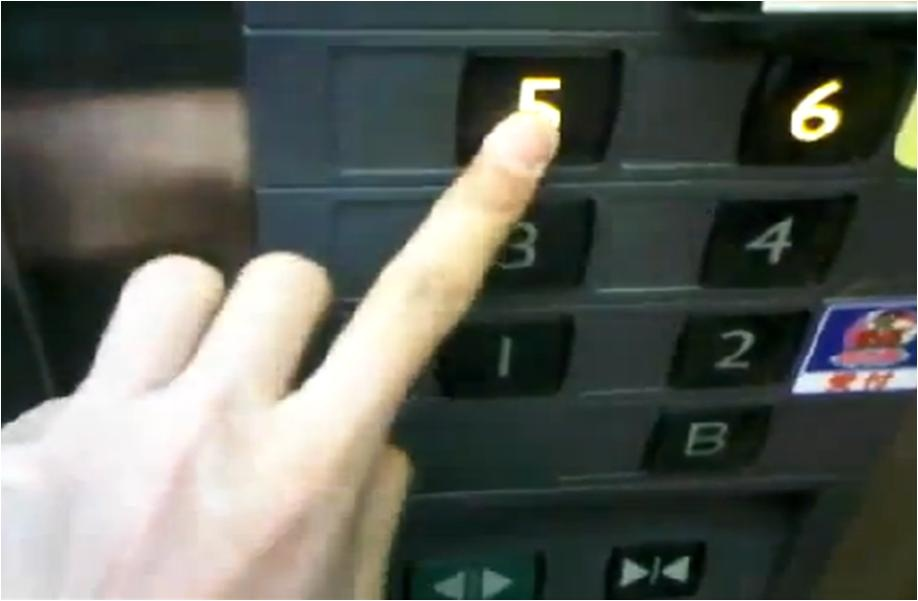1: (427, 312, 579, 401)
2: (661, 304, 816, 393)
3: (462, 194, 601, 298)
4: (687, 190, 861, 294)
5: (445, 41, 629, 170)
6: (731, 33, 917, 167)
B: (633, 405, 778, 478)
close: (596, 535, 715, 601)
open: (396, 541, 552, 598)
